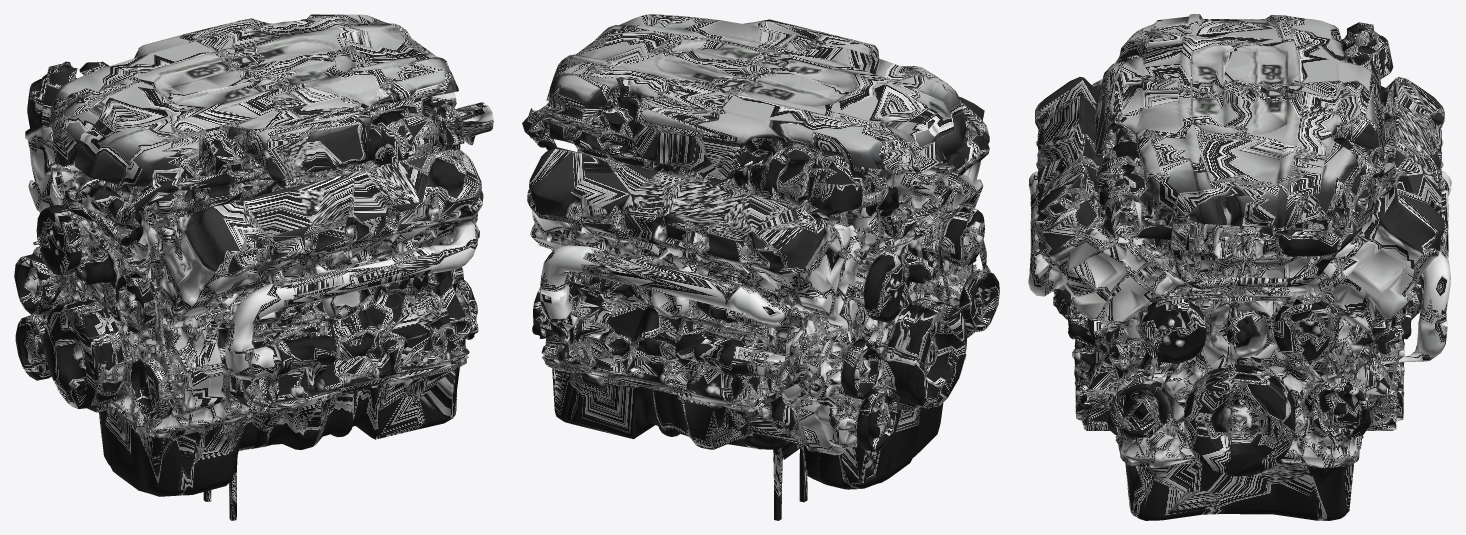
The model's file is mesin-v8-lite.glb.
3 renders of one model, left to right at view 1: azimuth 30°, elevation 25°; view 2: azimuth 150°, elevation 25°; view 3: azimuth 270°, elevation 25°, orthographic. The views are drawn at different scales.
Size of the model in its own units: 1.75 by 1.9 by 1.64.
1 material, 1 textured.
